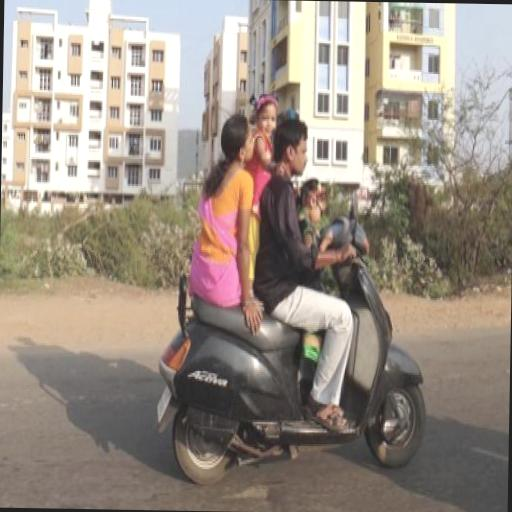no helmet: (270, 108, 326, 186)
triple riding: (184, 78, 358, 452)
